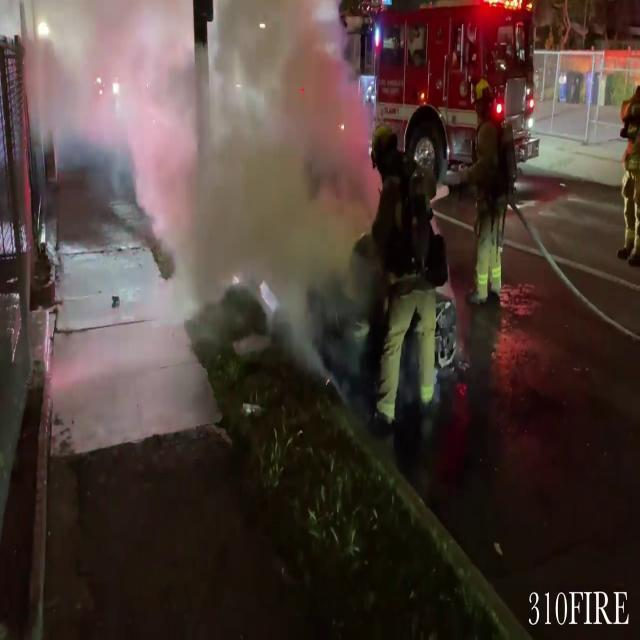Smoke: (25, 0, 381, 341)
